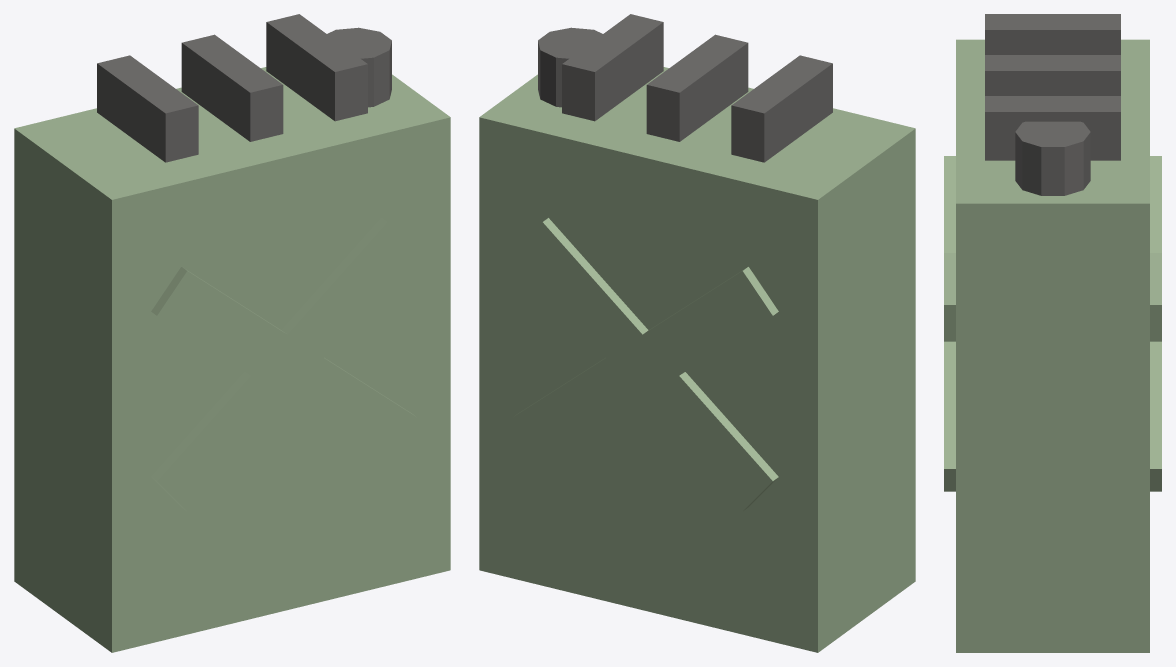
The model's file is greeble_jerrycan.glb.
3 views of the same model, side by side, from view 1: azimuth 30°, elevation 25°; view 2: azimuth 150°, elevation 25°; view 3: azimuth 270°, elevation 25° (orthographic).
Visible parts, largest first — view 1: stowage_jerrycan, stowage_jerrycan_trim_dark; view 2: stowage_jerrycan, stowage_jerrycan_trim_dark; view 3: stowage_jerrycan, stowage_jerrycan_trim_dark.
Boxes of the visible parts, x1=… form: stowage_jerrycan: x1=14, y1=67, x2=450, y2=652; stowage_jerrycan_trim_dark: x1=97, y1=14, x2=391, y2=162; stowage_jerrycan: x1=479, y1=67, x2=915, y2=652; stowage_jerrycan_trim_dark: x1=538, y1=14, x2=832, y2=162; stowage_jerrycan: x1=944, y1=39, x2=1161, y2=652; stowage_jerrycan_trim_dark: x1=985, y1=14, x2=1120, y2=195.
Size of the model in its own units: 0.36 by 0.52 by 0.202.
